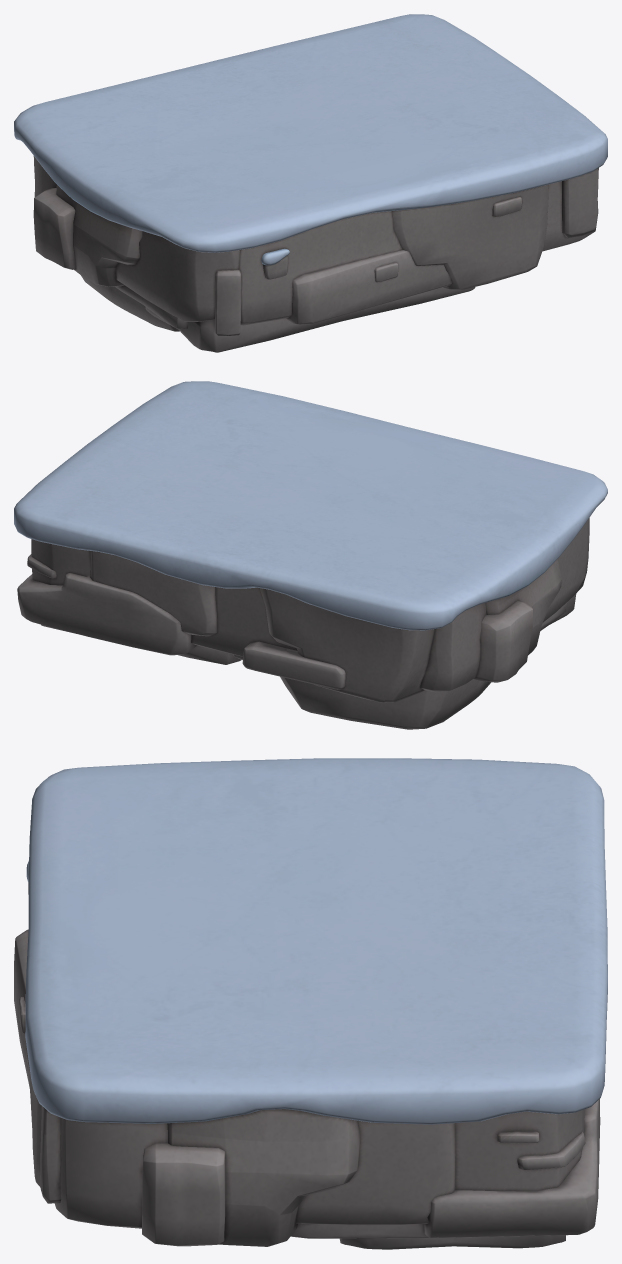
The model's file is SnowFloor_Square.fbx.
3 renders of one model, top to bottom at view 1: azimuth 30°, elevation 25°; view 2: azimuth 150°, elevation 25°; view 3: azimuth 270°, elevation 25°, orthographic. The views are drawn at different scales.
Parts seen in each view (by area): view 1: SnowFloor_Square; view 2: SnowFloor_Square; view 3: SnowFloor_Square.
Boxes of the visible parts, bbox=[...] form: SnowFloor_Square: bbox=[14, 14, 607, 352]; SnowFloor_Square: bbox=[14, 381, 607, 729]; SnowFloor_Square: bbox=[14, 758, 607, 1249].
Bounding box in the file's own units: 9108 × 2870 × 6454.
